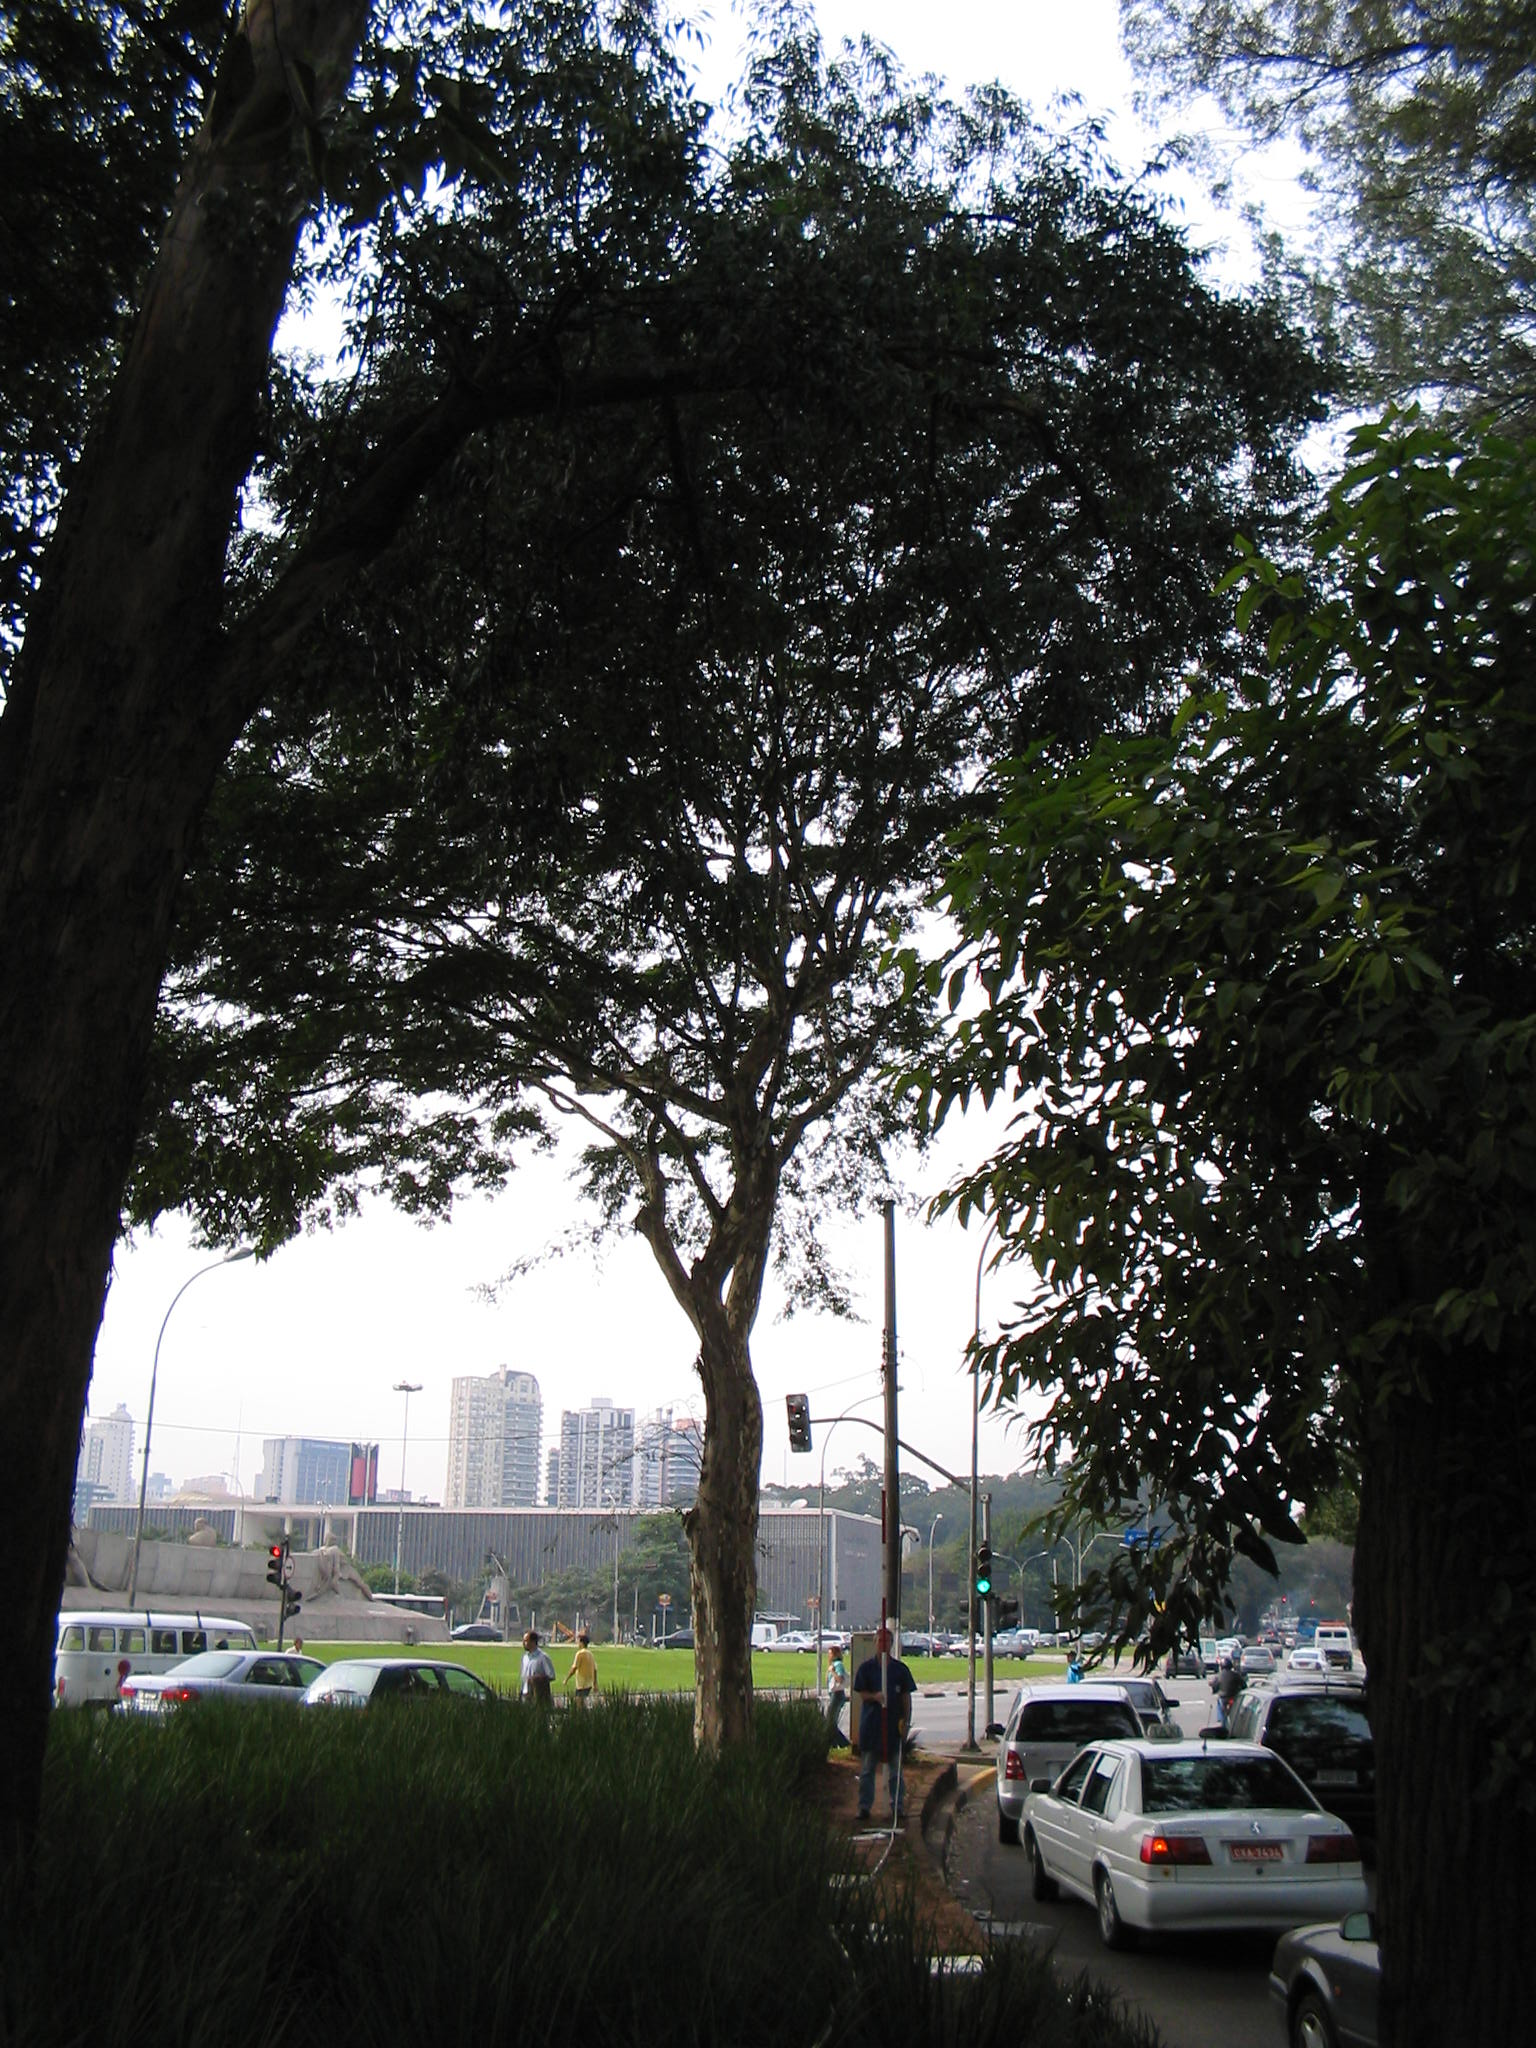crown: (161, 18, 1323, 1290)
stem: (628, 1329, 810, 1832)
stick: (866, 1482, 907, 1830)
tree: (152, 11, 1328, 1834)
